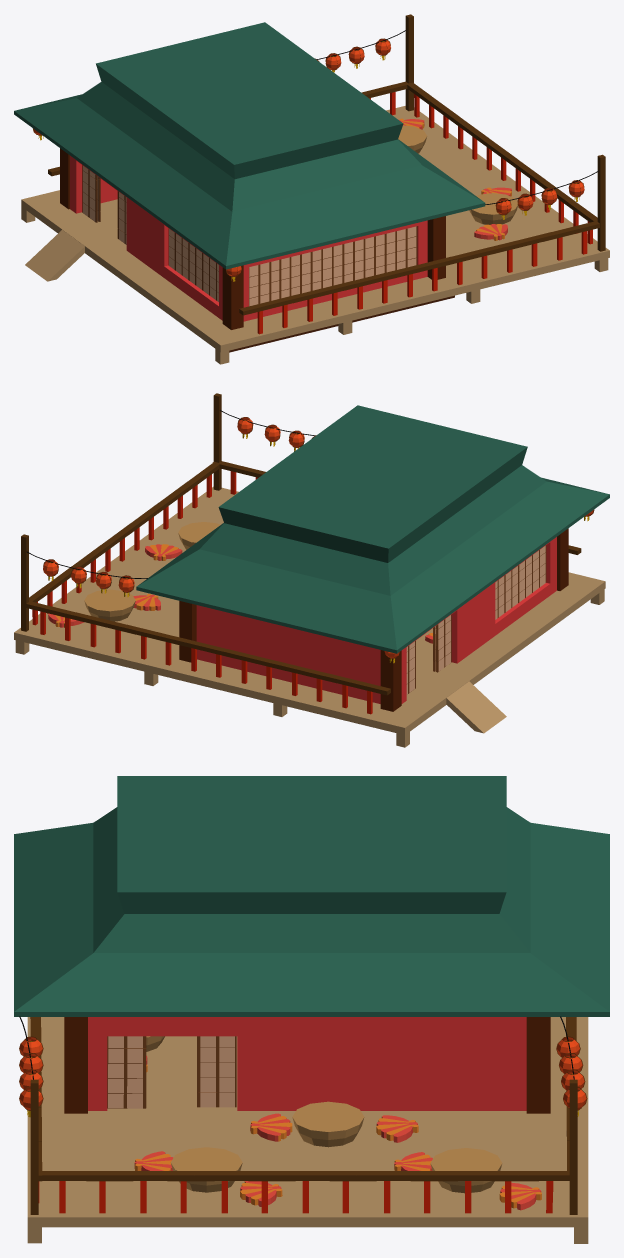
File: casadecha.glb
3 views of the same model, one above another, from view 1: azimuth 30°, elevation 25°; view 2: azimuth 150°, elevation 25°; view 3: azimuth 270°, elevation 25° (orthographic). The views are drawn at different scales.
Visible parts, largest first — view 1: Plane.015, Cube, Plane.002, Plane.006, Cube.012, Cube.013, Plane.005, Plane, Cube.023, Cube.022, Cylinder.004, Plane.008 (+7 smaller); view 2: Plane.015, Cube, Plane.002, Cube.011, Cube.013, Plane.005, Plane, Cylinder.003, Cube.020, Plane.009, Cube.021, Cube.001 (+6 smaller); view 3: Plane.015, Cube, Plane.002, Cube.013, Plane.011, Plane.013, Cylinder.001, Cube.021, Cube.022, Cylinder.003, Cylinder.004, Cube.001 (+7 smaller).
Part boxes in pixels (bbox=[...]): Plane.015: bbox=[14, 22, 485, 269]; Cube: bbox=[21, 106, 609, 352]; Plane.002: bbox=[70, 155, 427, 321]; Plane.006: bbox=[249, 226, 417, 306]; Cube.012: bbox=[239, 220, 599, 334]; Cube.013: bbox=[407, 83, 599, 244]; Plane.005: bbox=[168, 228, 218, 301]; Plane: bbox=[25, 229, 84, 281]; Cube.023: bbox=[222, 265, 243, 329]; Cube.022: bbox=[427, 216, 445, 279]; Cylinder.004: bbox=[469, 193, 517, 224]; Plane.008: bbox=[82, 165, 100, 222]; Plane.015: bbox=[136, 405, 609, 653]; Cube: bbox=[14, 486, 605, 734]; Plane.002: bbox=[196, 537, 556, 703]; Cube.011: bbox=[22, 601, 390, 714]; Cube.013: bbox=[29, 461, 222, 625]; Plane.005: bbox=[495, 545, 546, 619]; Plane: bbox=[446, 681, 506, 733]; Cylinder.003: bbox=[84, 589, 135, 621]; Cube.020: bbox=[380, 650, 401, 711]; Plane.009: bbox=[433, 614, 451, 672]; Cube.021: bbox=[179, 601, 196, 662]; Cube.001: bbox=[213, 393, 221, 490]; Plane.015: bbox=[14, 776, 609, 1016]; Cube: bbox=[27, 1017, 588, 1227]; Plane.002: bbox=[88, 1017, 526, 1110]; Cube.013: bbox=[38, 1171, 569, 1213]; Plane.011: bbox=[107, 1036, 146, 1108]; Plane.013: bbox=[197, 1036, 236, 1107]; Cylinder.001: bbox=[292, 1101, 364, 1147]; Cube.021: bbox=[526, 1017, 550, 1113]; Cube.022: bbox=[64, 1017, 87, 1113]; Cylinder.003: bbox=[430, 1148, 502, 1193]; Cylinder.004: bbox=[170, 1147, 242, 1192]; Cube.001: bbox=[30, 1079, 38, 1214].
Size of the model in its own units: 24.41 by 9.42 by 21.01.
